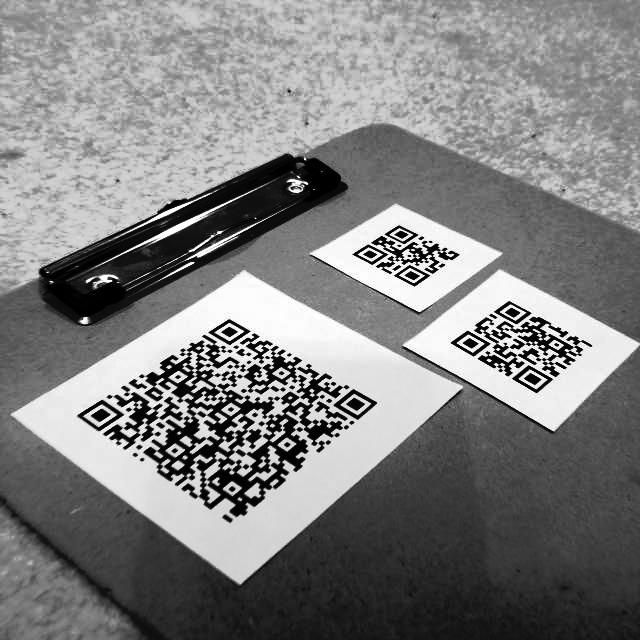qr_code: (62, 313, 410, 540), (443, 292, 608, 406), (343, 211, 466, 294)
